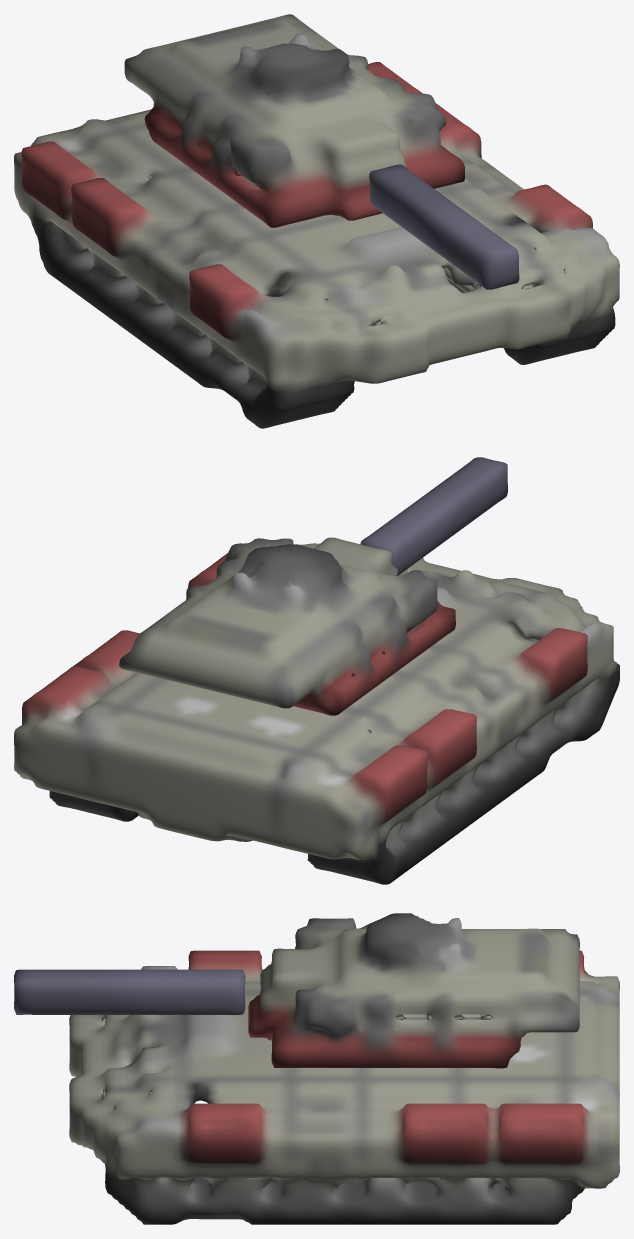
The model's file is htnk.glb.
The picture shows the model from 3 angles, top to bottom: view 1: azimuth 30°, elevation 25°; view 2: azimuth 150°, elevation 25°; view 3: azimuth 270°, elevation 25°; orthographic projection. The views are drawn at different scales.
Visible parts, largest first — view 1: htnk; view 2: htnk; view 3: htnk.
Part boxes in pixels (bbox=[...]): htnk: bbox=[14, 14, 619, 428]; htnk: bbox=[14, 457, 619, 884]; htnk: bbox=[14, 913, 619, 1224].
Size of the model in its own units: 2.81 by 1.66 by 4.14.
